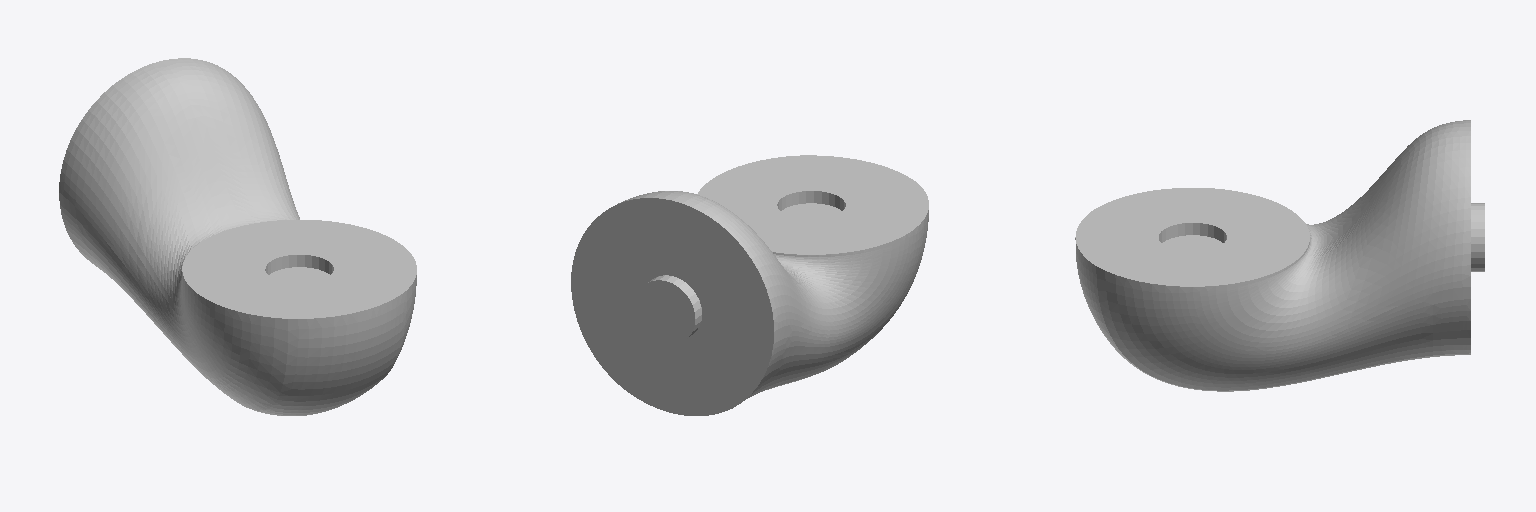
3 renders of one model, left to right at view 1: azimuth 30°, elevation 25°; view 2: azimuth 150°, elevation 25°; view 3: azimuth 270°, elevation 25°, orthographic.
Parts seen in each view (by area): view 1: link_1; view 2: link_1; view 3: link_1.
Boxes of the visible parts, x1=… form: link_1: x1=59, y1=58, x2=416, y2=415; link_1: x1=571, y1=155, x2=928, y2=415; link_1: x1=1075, y1=120, x2=1484, y2=391.
Size of the model in its own units: 0.171 by 0.2012 by 0.298.